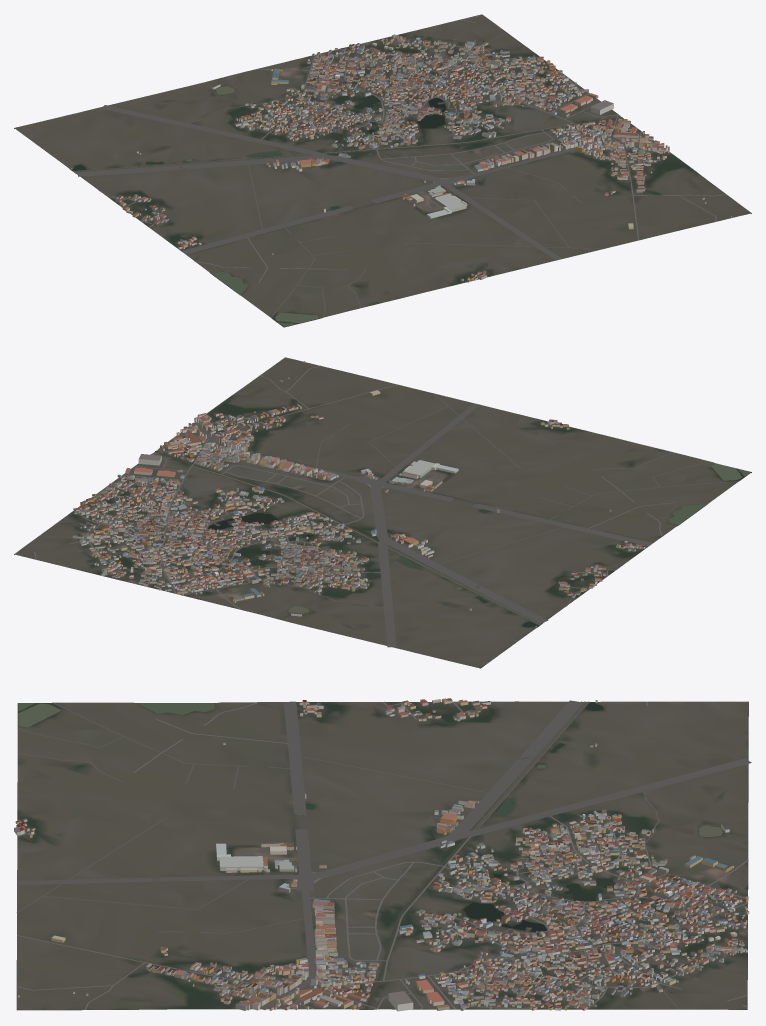
The picture shows the model from 3 angles, top to bottom: view 1: azimuth 30°, elevation 25°; view 2: azimuth 150°, elevation 25°; view 3: azimuth 270°, elevation 25°; orthographic projection. The views are drawn at different scales.
Parts seen in each view (by area): view 1: ground, buildings, roads, water; view 2: ground, buildings, roads, water; view 3: ground, buildings, roads, water.
Boxes of the visible parts, x1,y1,x2,y2 form: ground: (14,14,751,327); buildings: (70,34,732,282); roads: (32,15,726,317); water: (71,86,622,326); ground: (14,357,751,668); buildings: (72,361,645,627); roads: (19,365,738,654); water: (155,450,750,627); ground: (16,701,748,1010); buildings: (14,698,749,1011); roads: (16,700,751,1009); water: (18,701,723,1009).
Bounding box in the file's own units: 1411 × 23.28 × 1415.
